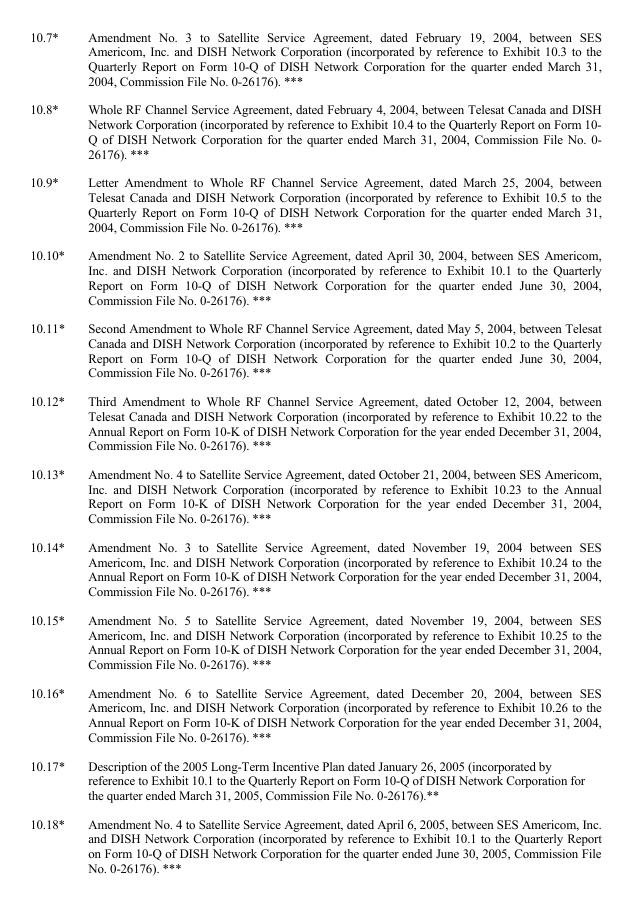table: (29, 29, 600, 874)
table column: (75, 29, 600, 874), (29, 29, 75, 874)
table row: (29, 94, 600, 167), (29, 167, 600, 240), (29, 240, 600, 313), (29, 313, 600, 386), (29, 386, 600, 459), (29, 459, 600, 532), (29, 532, 600, 605), (29, 677, 600, 750), (29, 605, 600, 677), (29, 29, 600, 94), (29, 809, 600, 874), (29, 750, 600, 809)
